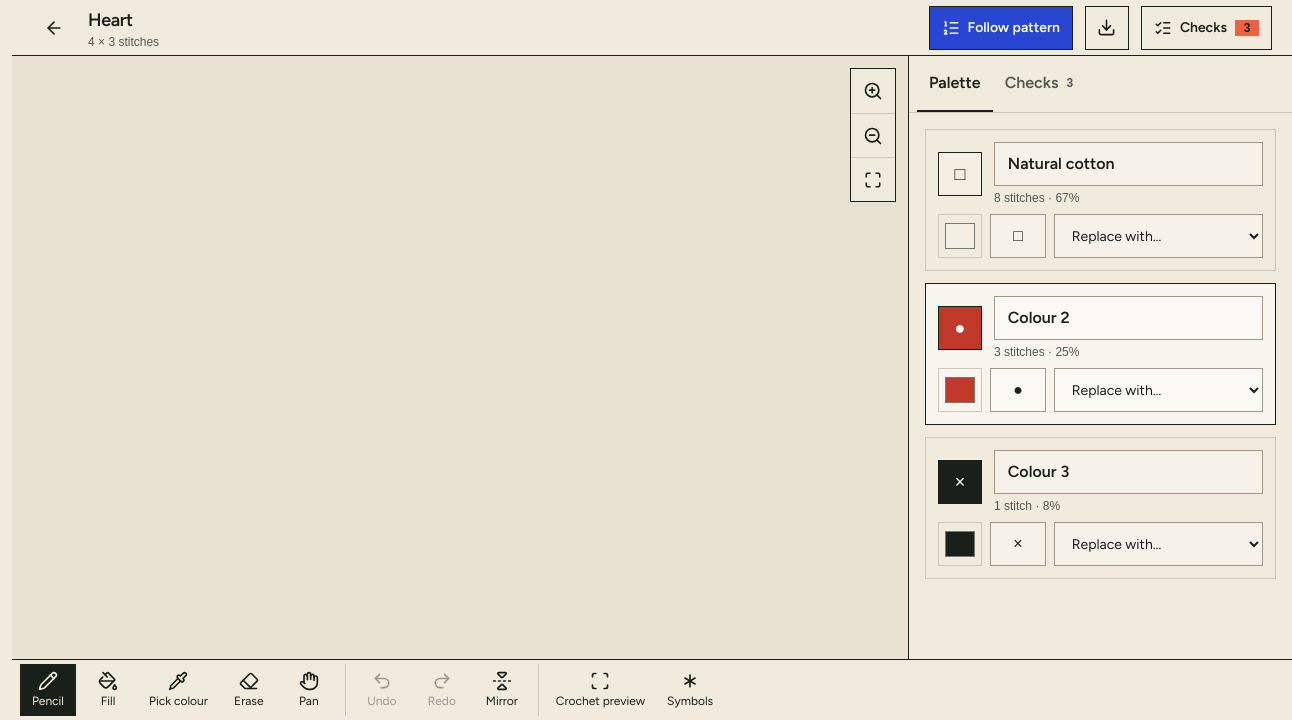
Scenario: PatternEditor › updates checks after an edit removes the problem
The image size is (1292, 720).
Select "Colour 2" in the dropdown named "Replace colour 3 with". click: (1158, 544)
box: [1054,522,1263,566]
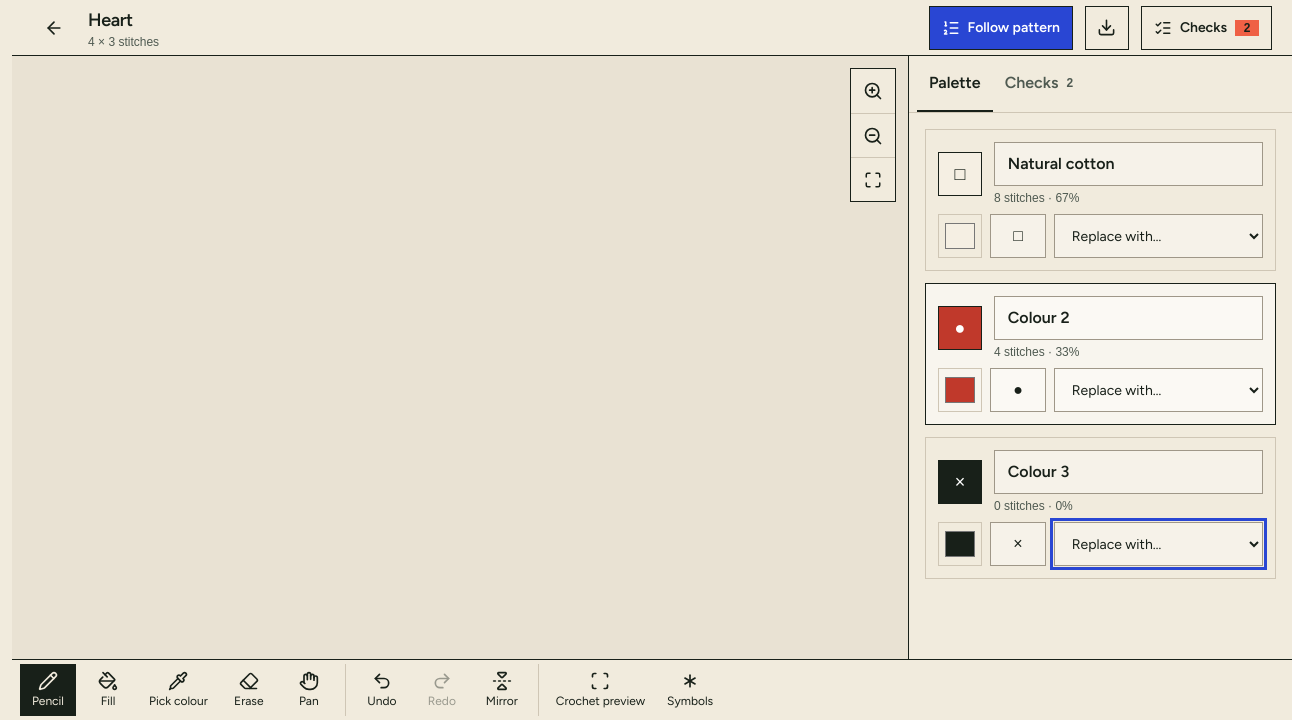
Check: the button with aria-label "Pattern checks: 2 suggestions" is shown, box [1141,6,1272,50]
